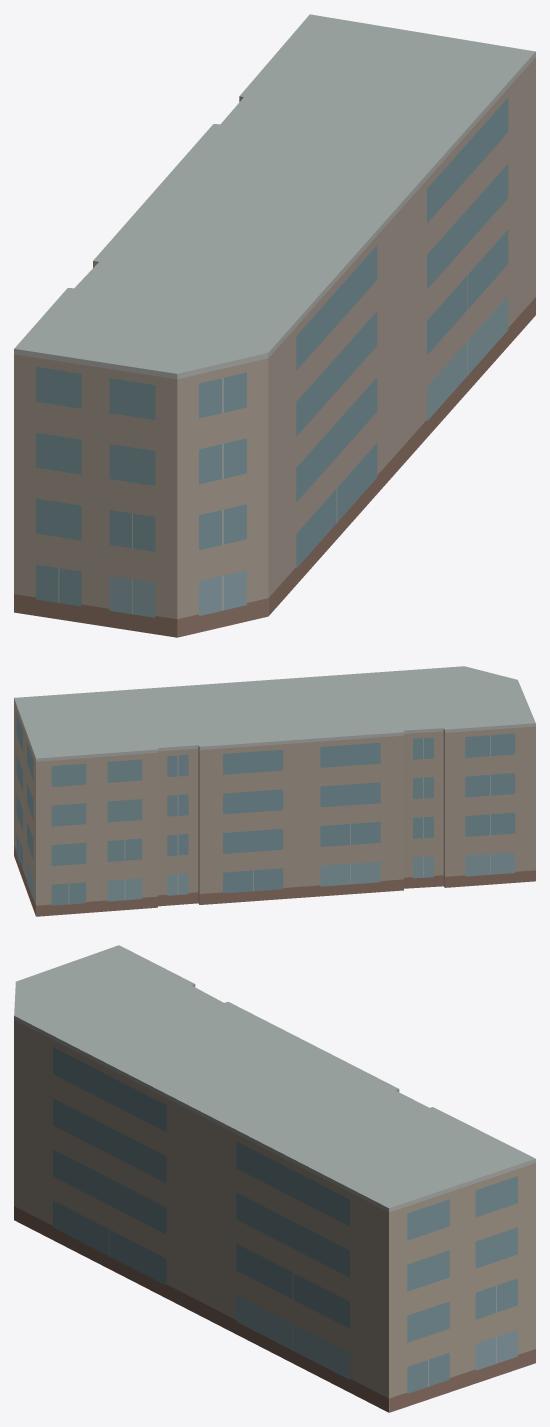
Rendered from survey-upis-32583612.glb.
The picture shows the model from 3 angles, top to bottom: view 1: azimuth 30°, elevation 25°; view 2: azimuth 150°, elevation 25°; view 3: azimuth 270°, elevation 25°; orthographic projection. The views are drawn at different scales.
Visible parts, largest first — view 1: survey-upis-32583612.tmp; view 2: survey-upis-32583612.tmp; view 3: survey-upis-32583612.tmp.
Part boxes in pixels (left/top/right/bottom): survey-upis-32583612.tmp: left=14, top=14, right=535, bottom=637; survey-upis-32583612.tmp: left=14, top=666, right=535, bottom=916; survey-upis-32583612.tmp: left=14, top=945, right=535, bottom=1412.
Size of the model in its own units: 32.87 by 11.9 by 27.53.
